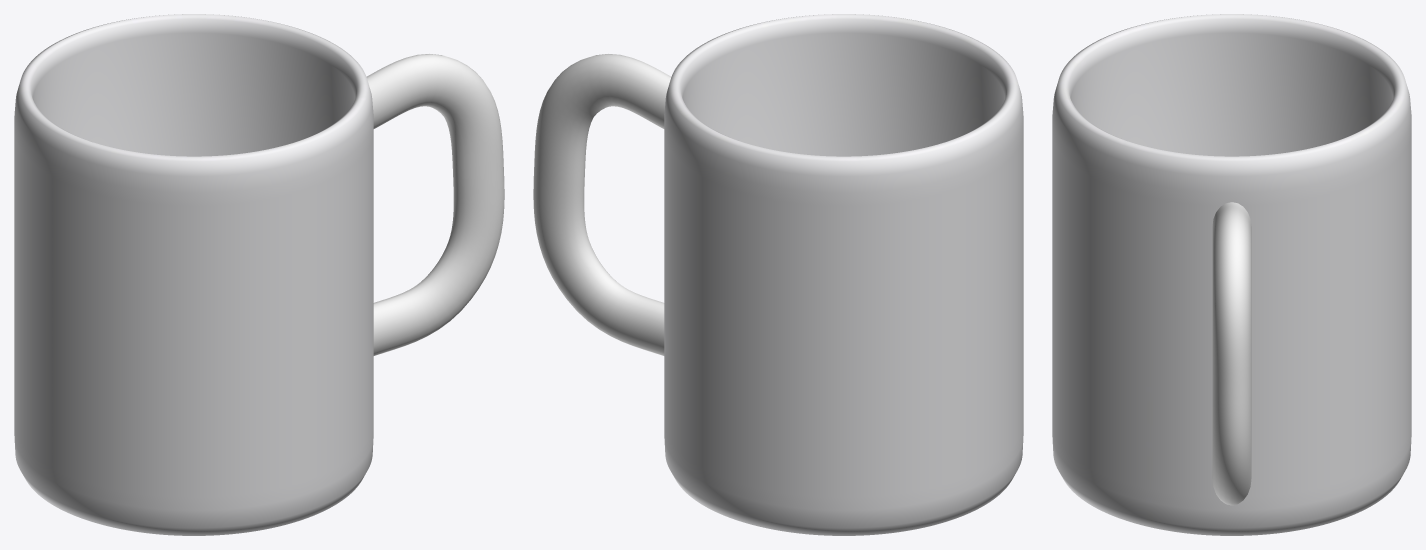
The model's file is mug.glb.
The picture shows the model from 3 angles, left to right: view 1: azimuth 30°, elevation 25°; view 2: azimuth 150°, elevation 25°; view 3: azimuth 270°, elevation 25°; orthographic projection.
Visible parts, largest first — view 1: mug, handle; view 2: mug, handle; view 3: mug, handle.
Boxes of the visible parts, left/top/right/bottom form: mug: left=14, top=14, right=373, bottom=535; handle: left=366, top=54, right=504, bottom=355; mug: left=664, top=14, right=1023, bottom=535; handle: left=533, top=54, right=671, bottom=355; mug: left=1052, top=14, right=1411, bottom=535; handle: left=1212, top=202, right=1251, bottom=505.
Bounding box in the file's own units: 0.1223 × 0.096 × 0.082.
Materials: 3 (3 with a texture image).
